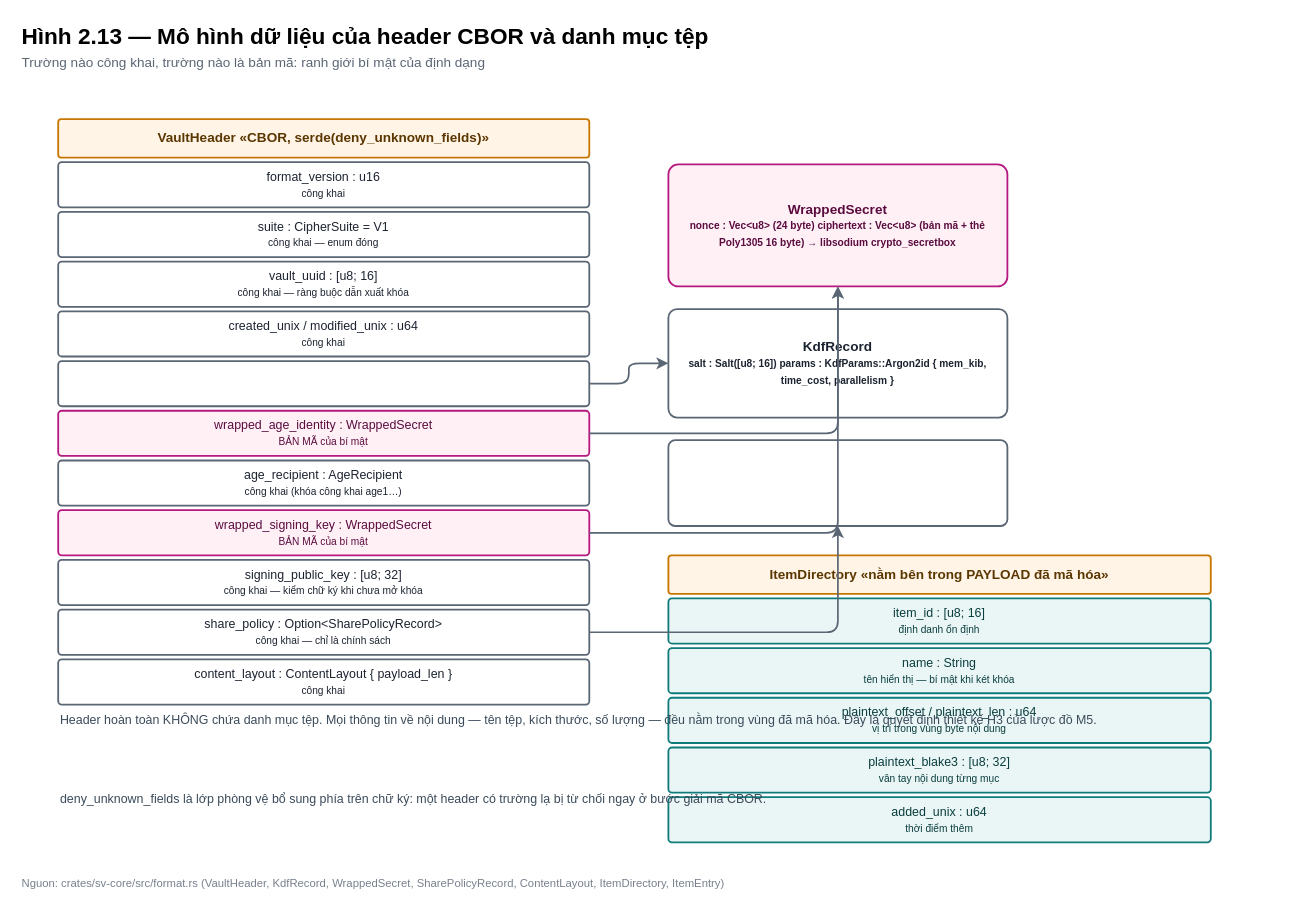
Some shapes in this 1313 by 910 pixel diagram are drawn without their labels. Here are the shapes that lost their labels. From the top down, the box of each, then its label:
(57, 360, 590, 407): kdf : KdfRecord { salt, params } công khai
(667, 439, 1008, 526): SharePolicyRecord shares_total : u8 threshold : u8 — mảnh KHÔNG nằm trong két
